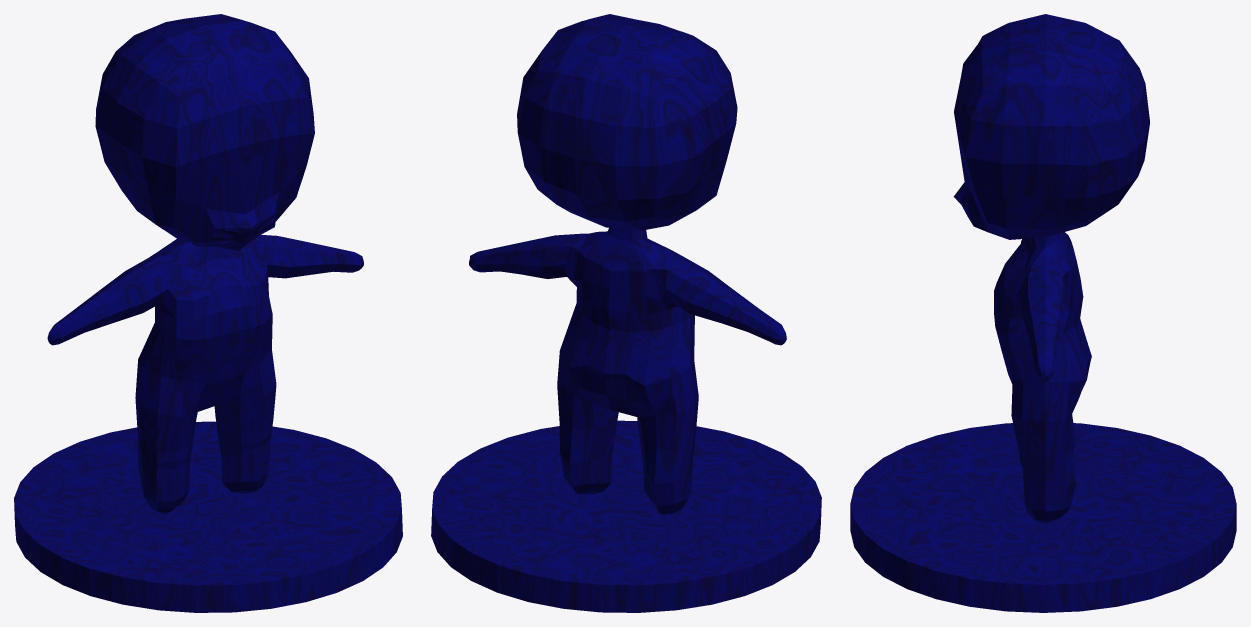
The model's file is PlaceholderBlueCharacter.fbx.
The picture shows the model from 3 angles, left to right: view 1: azimuth 30°, elevation 25°; view 2: azimuth 150°, elevation 25°; view 3: azimuth 270°, elevation 25°; orthographic projection.
Visible parts, largest first — view 1: Cube; view 2: Cube; view 3: Cube.
Part boxes in pixels (x1=…): Cube: x1=14, y1=14, x2=402, y2=612; Cube: x1=431, y1=14, x2=821, y2=612; Cube: x1=850, y1=14, x2=1236, y2=612.
Size of the model in its own units: 296 by 423 by 296.
Materials: 1 (1 with a texture image).
